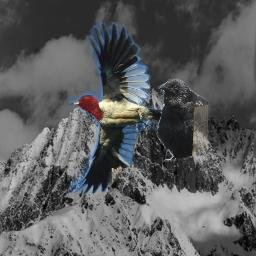Crow: (155, 78, 208, 162)
Woodpecker: (68, 22, 180, 196)
